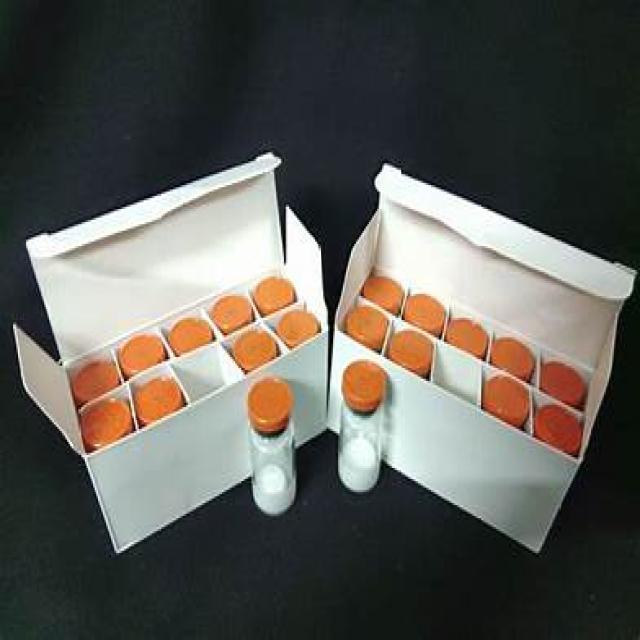vial: (478, 379, 528, 427), (540, 362, 588, 407), (244, 380, 290, 426), (443, 313, 487, 358), (341, 303, 387, 346), (268, 310, 324, 344), (535, 410, 579, 452), (136, 376, 182, 416), (344, 358, 380, 407), (76, 354, 113, 401), (123, 333, 165, 373), (491, 335, 530, 378), (388, 333, 434, 368), (85, 403, 126, 441), (247, 280, 300, 308), (408, 291, 446, 328), (218, 294, 256, 329), (170, 318, 210, 351), (366, 271, 399, 308), (238, 332, 272, 367)
